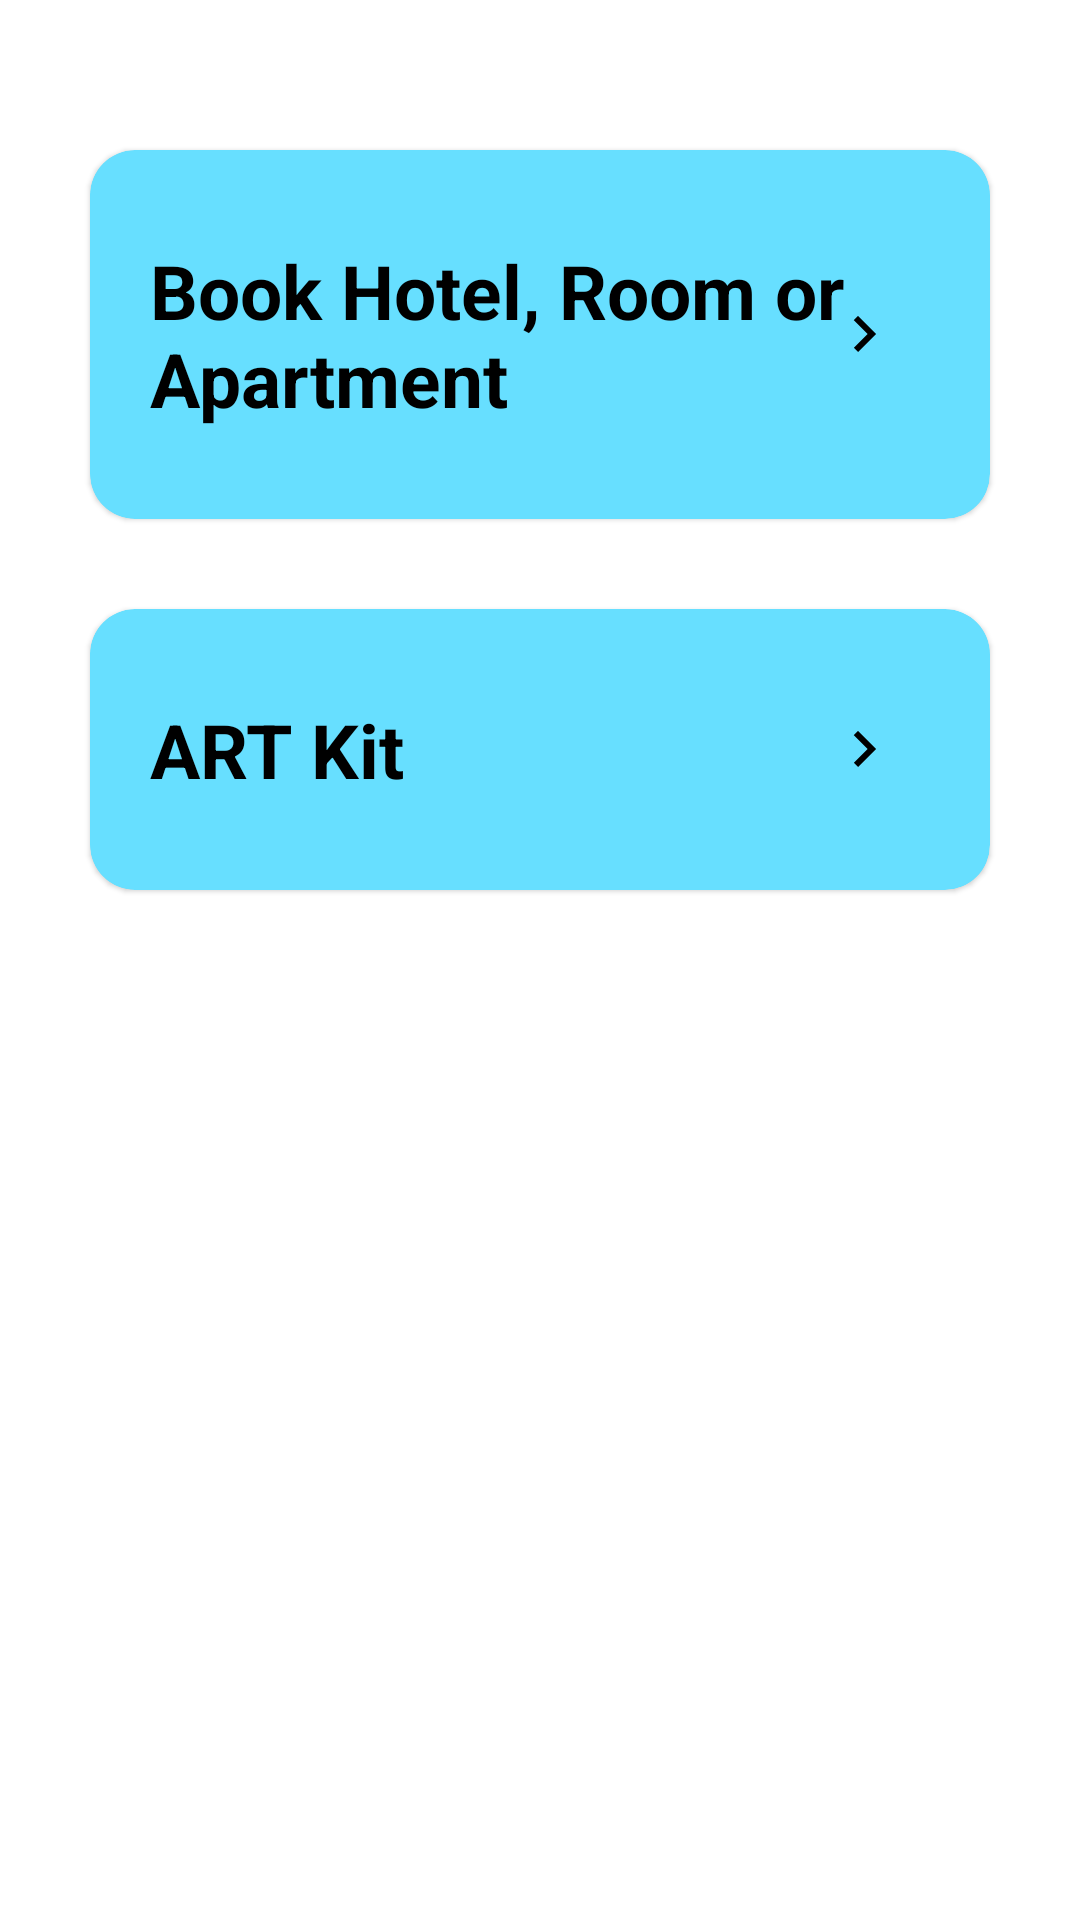

Named icons in this screenshot (1080 × 1920) and their centers, point (x, y):
arrow: point (865, 334), point (865, 749)
